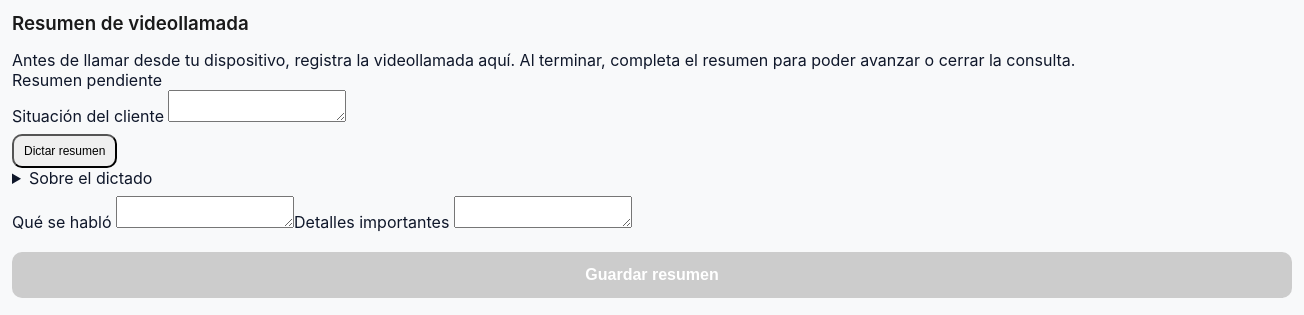
Test: requires all three fields and confirms only after save
Expected: the button "Guardar resumen" is disabled, [12,252,1292,298]
In the text box labelled "Situación del cliente": (258, 106) [168,90,346,122], type "Busca una sede"
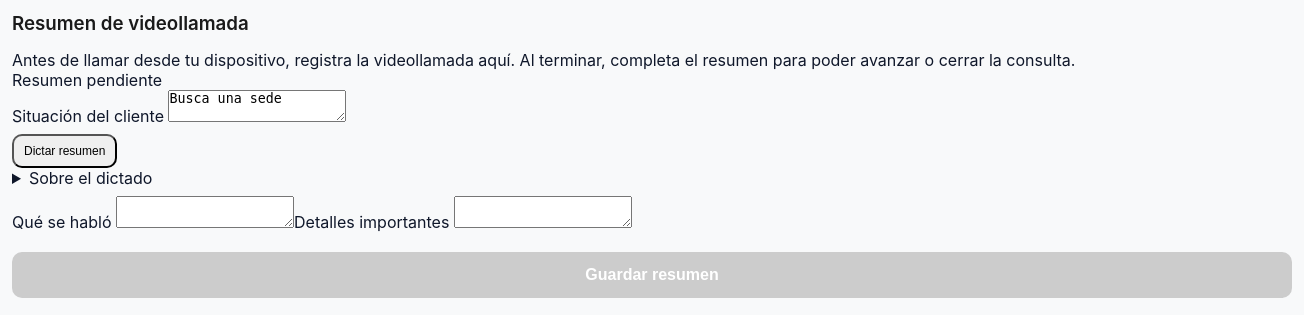
In the text box labelled "Qué se habló": (205, 212) [116,196,294,228], type "Revisamos opciones"
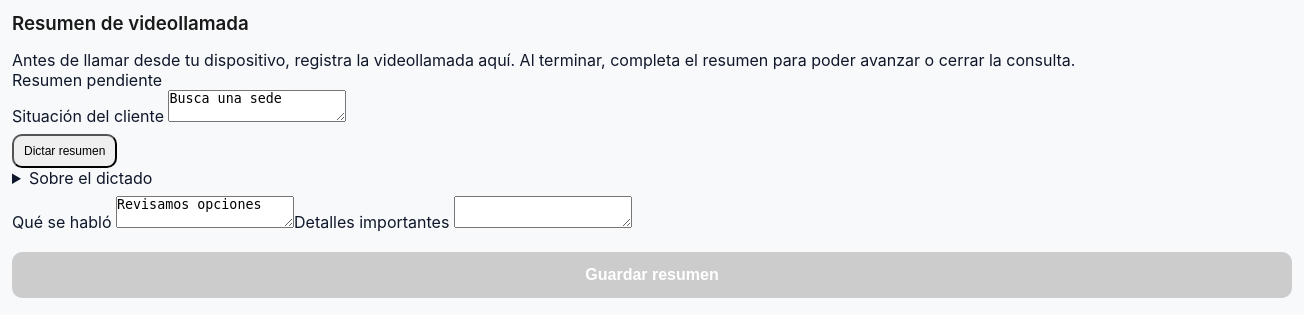
Expected: the button "Guardar resumen" is disabled, [12,252,1292,298]
In the text box labelled "Detalles importantes": (543, 212) [454,196,632,228], type "Tiene club en Londres"
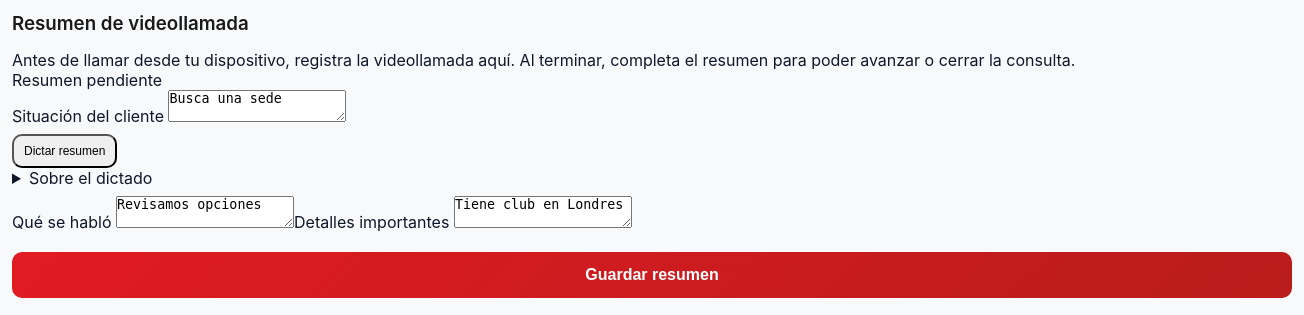
Click the button "Guardar resumen": click(652, 275) [12,252,1292,298]
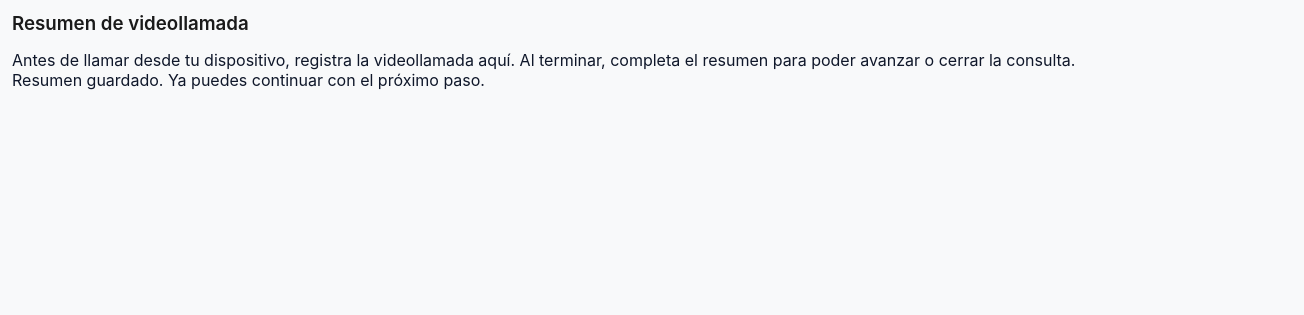
Result: the text "Resumen guardado. Ya puedes continuar con el próximo paso." is shown at [12,70,485,90]
